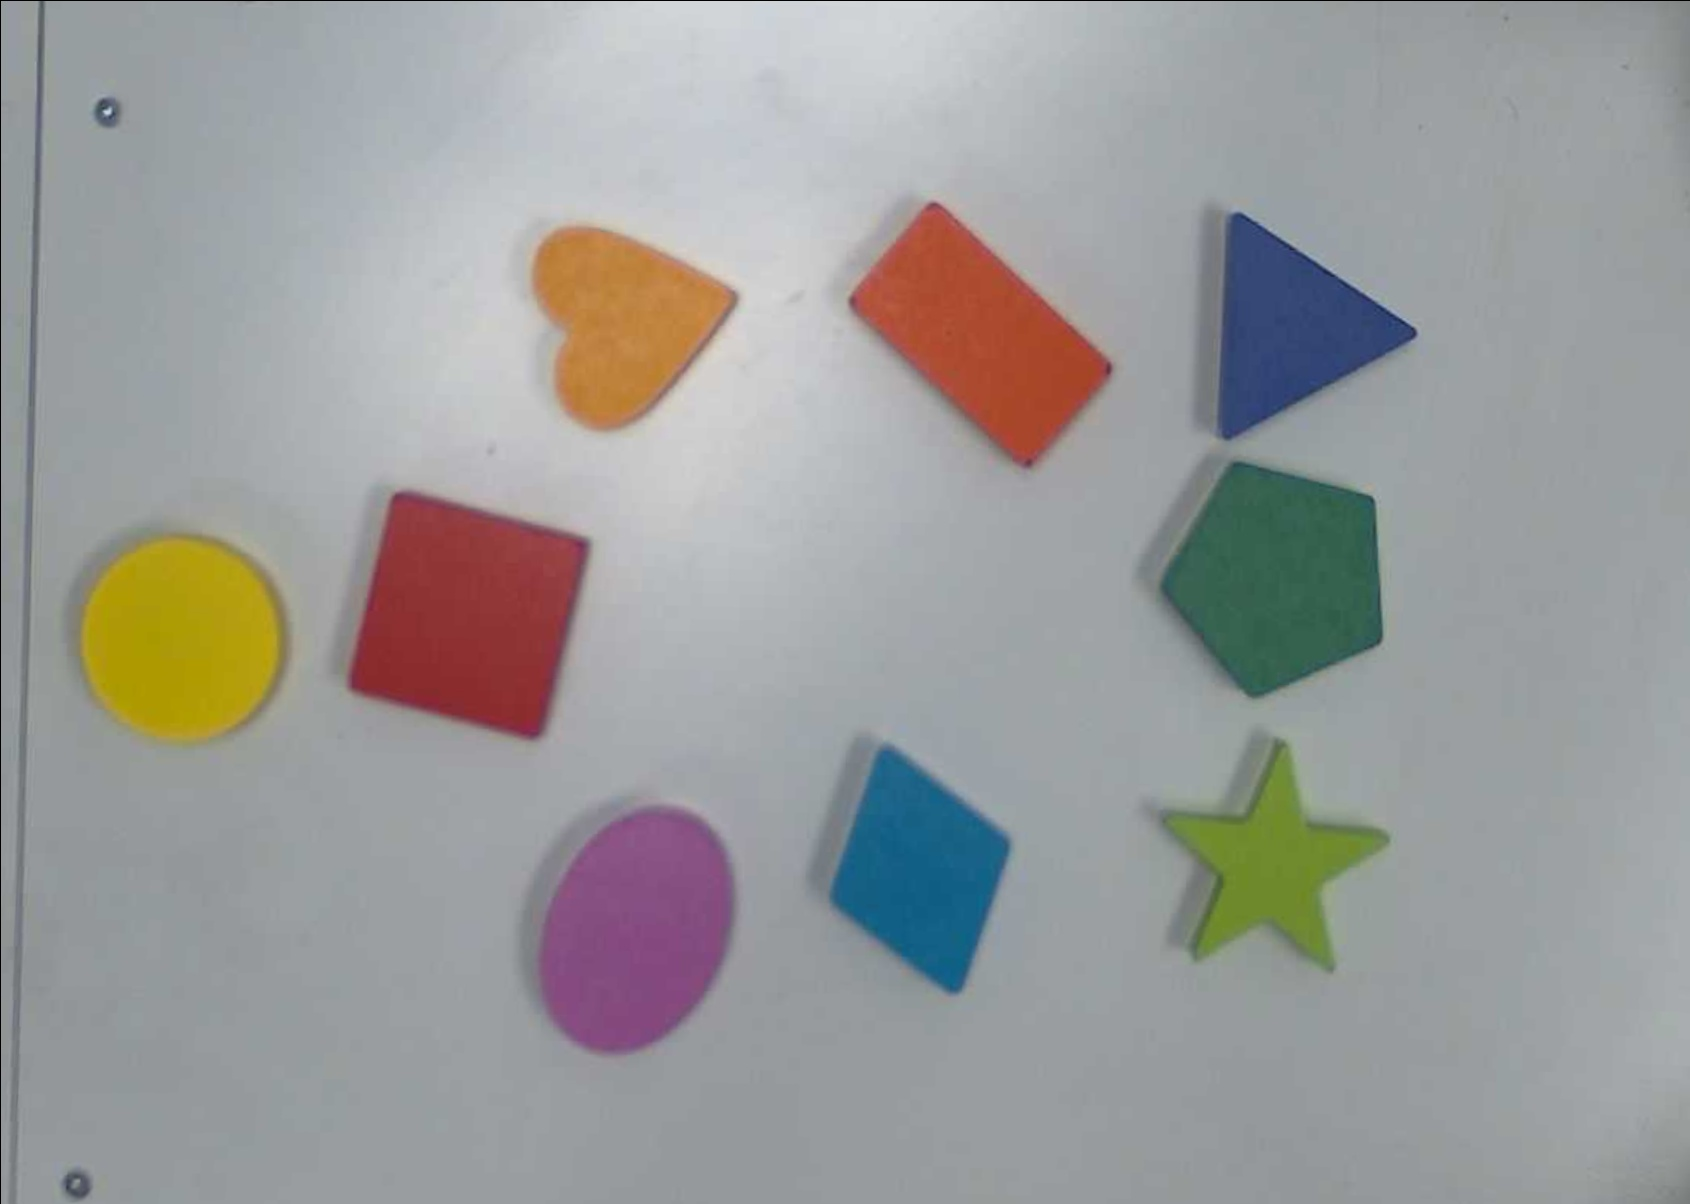Circle: (78, 536, 283, 745)
Ellipse: (536, 805, 739, 1054)
Heart: (526, 224, 743, 430)
Parallelogram: (824, 739, 1012, 997)
Pentagon: (1160, 460, 1384, 701)
Rectangle: (842, 199, 1118, 469)
Square: (347, 491, 585, 738)
Star: (1154, 734, 1397, 979)
Triangle: (1216, 210, 1422, 443)
